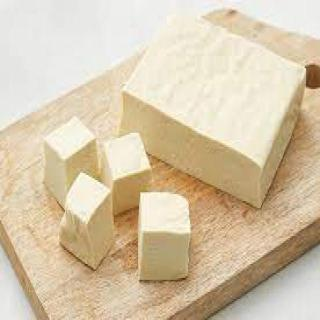Tahu: (34, 13, 310, 291)
